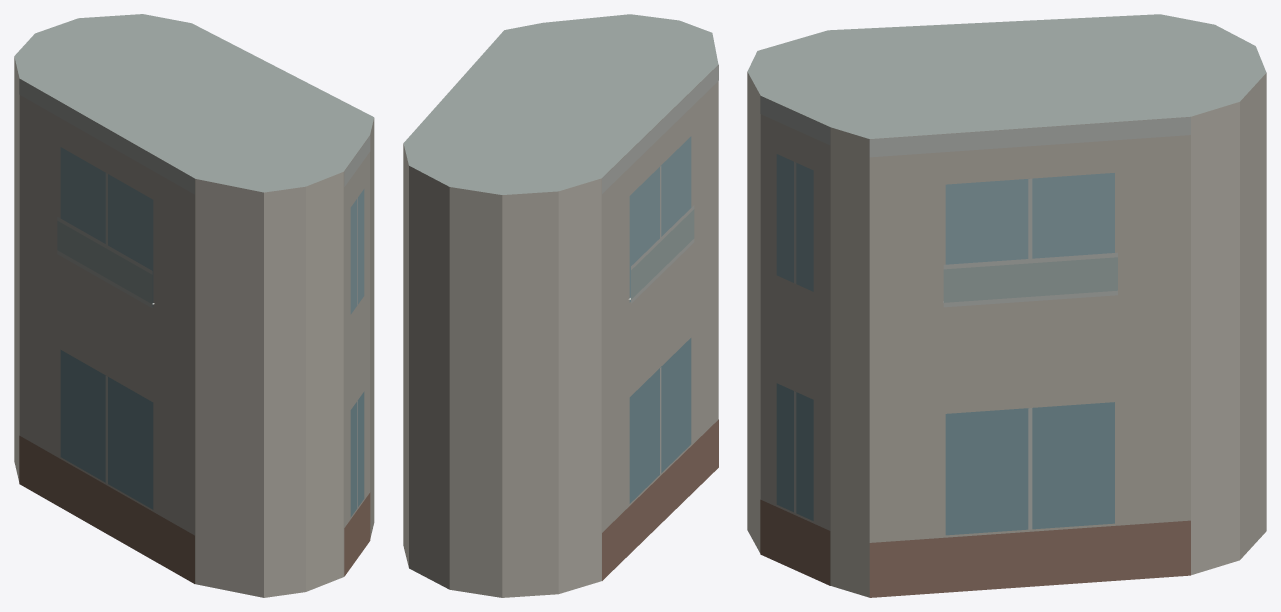
File: survey-upis-32634815.glb
3 renders of one model, left to right at view 1: azimuth 30°, elevation 25°; view 2: azimuth 150°, elevation 25°; view 3: azimuth 270°, elevation 25°, orthographic. The views are drawn at different scales.
Parts seen in each view (by area): view 1: survey-upis-32634815.tmp; view 2: survey-upis-32634815.tmp; view 3: survey-upis-32634815.tmp.
Boxes of the visible parts, <box> form: survey-upis-32634815.tmp: <box>14,14,374,597</box>; survey-upis-32634815.tmp: <box>403,14,718,597</box>; survey-upis-32634815.tmp: <box>747,14,1266,597</box>.
Size of the model in its own units: 3.58 by 6.1 by 6.26.
